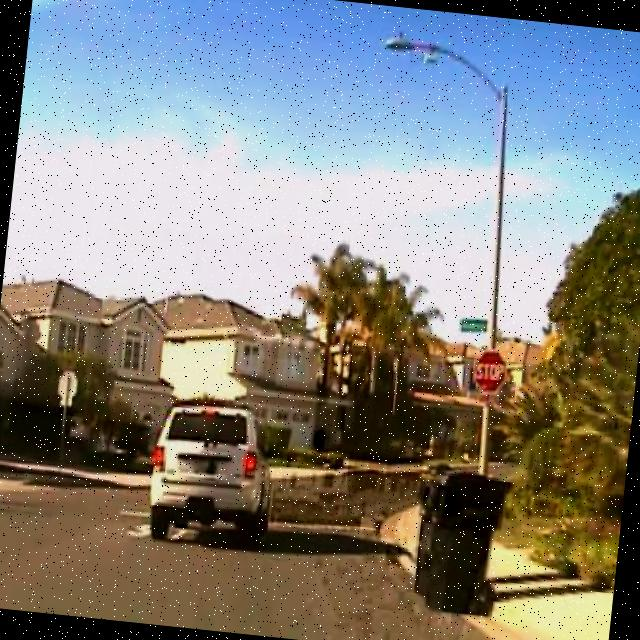Stop: (470, 348, 510, 396)
